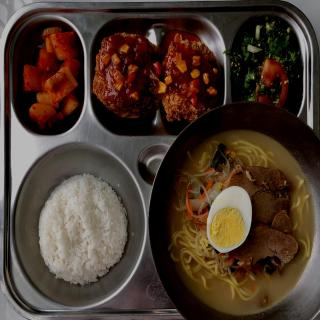Nasi: (39, 175, 131, 287)
